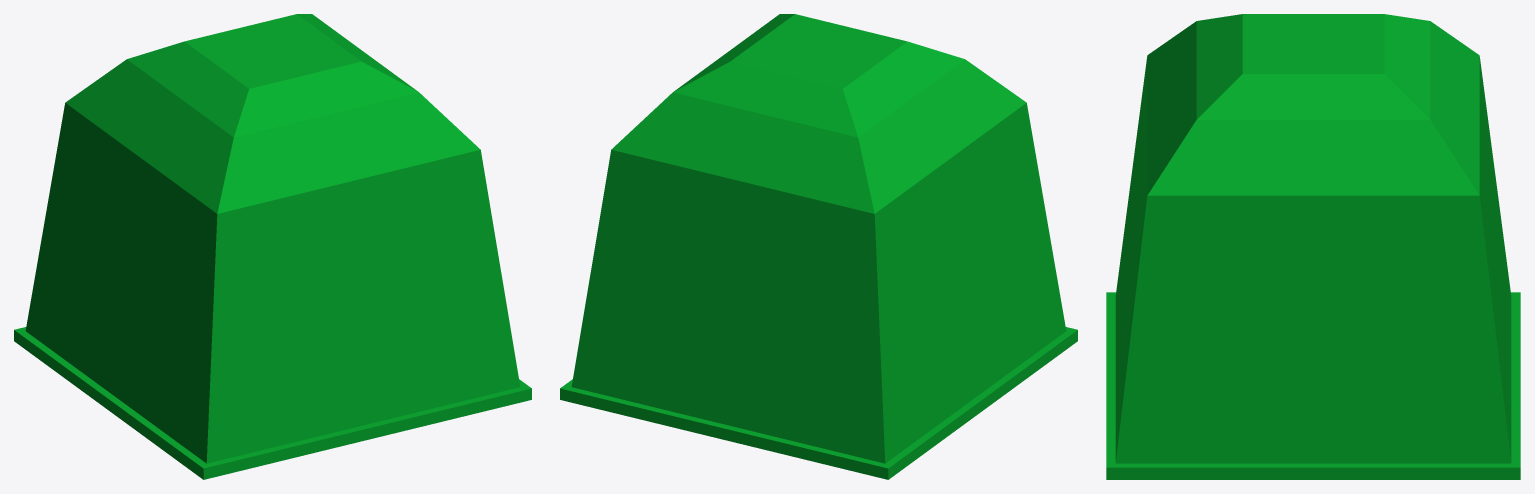
The model's file is ContenedorCristal.fbx.
3 views of the same model, side by side, from view 1: azimuth 30°, elevation 25°; view 2: azimuth 150°, elevation 25°; view 3: azimuth 270°, elevation 25° (orthographic). The views are drawn at different scales.
Visible parts, largest first — view 1: Cube.014; view 2: Cube.014; view 3: Cube.014.
Part boxes in pixels (<box>): Cube.014: <box>14,14,531,479</box>; Cube.014: <box>560,14,1077,479</box>; Cube.014: <box>1106,14,1520,479</box>.
Size of the model in its own units: 172 by 160 by 172.
